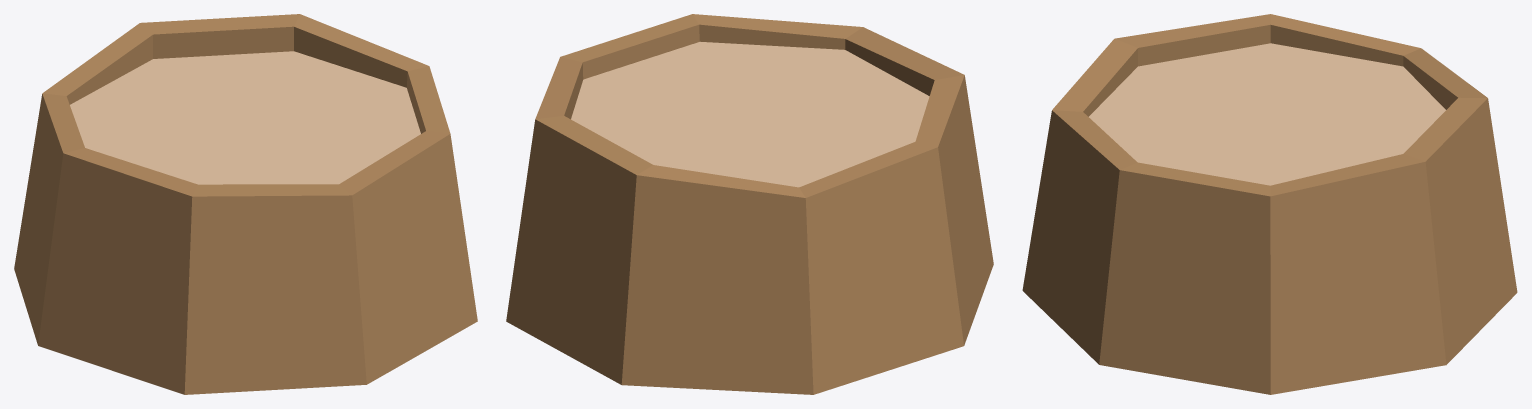
The model's file is Ceppo tagliato.fbx.
3 renders of one model, left to right at view 1: azimuth 30°, elevation 25°; view 2: azimuth 150°, elevation 25°; view 3: azimuth 270°, elevation 25°, orthographic. The views are drawn at different scales.
Parts seen in each view (by area): view 1: Circle.031; view 2: Circle.031; view 3: Circle.031.
Boxes of the visible parts, bbox=[...] form: Circle.031: bbox=[14, 14, 477, 394]; Circle.031: bbox=[506, 14, 993, 394]; Circle.031: bbox=[1022, 14, 1517, 394].
Size of the model in its own units: 22.55 by 10.01 by 23.01.
